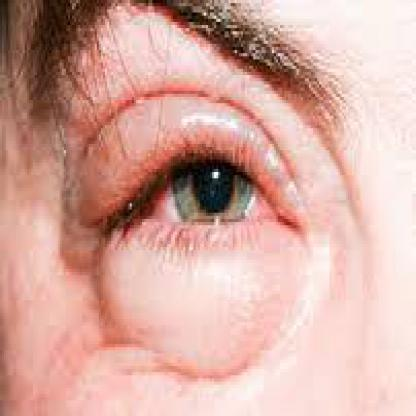darkspot: (188, 87, 245, 194), (160, 0, 194, 73), (203, 20, 231, 70), (206, 216, 215, 243)
